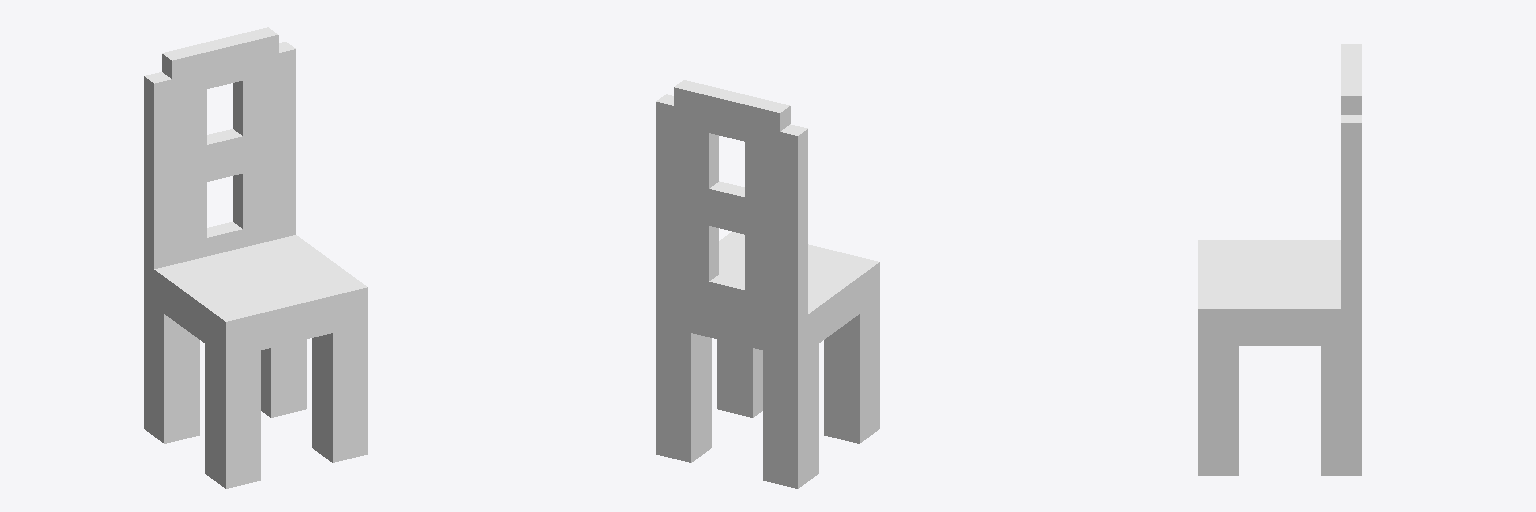
Rendered from ChairProp.obj.
The picture shows the model from 3 angles: view 1: azimuth 30°, elevation 25°; view 2: azimuth 150°, elevation 25°; view 3: azimuth 270°, elevation 25°; orthographic projection.
Visible parts, largest first — view 1: object 1; view 2: object 1; view 3: object 1.
Part boxes in pixels (bbox=[...]): object 1: bbox=[144, 27, 367, 488]; object 1: bbox=[656, 80, 879, 488]; object 1: bbox=[1198, 44, 1361, 475].
Bounding box in the file's own units: 0.8 × 2 × 0.8.